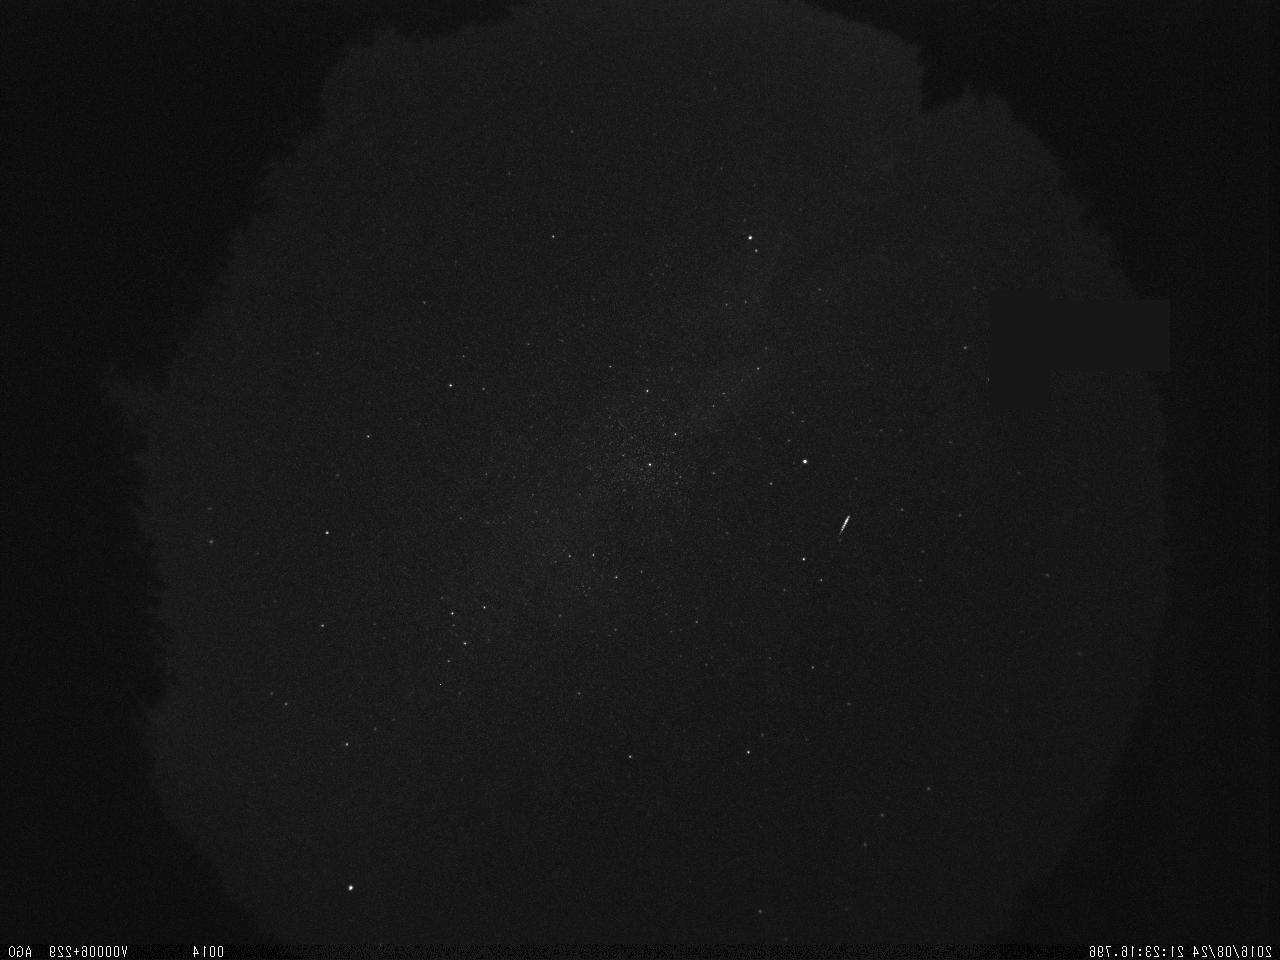meteor: (807, 496, 876, 551)
